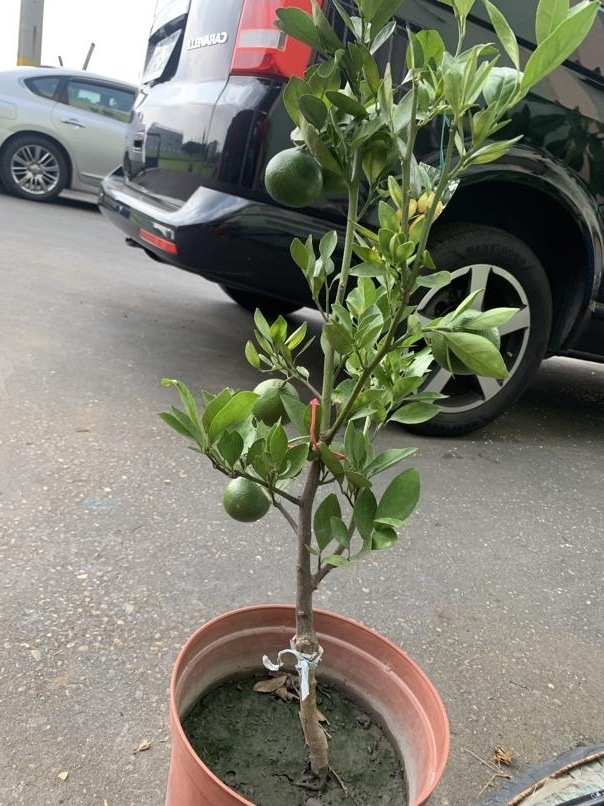Tangerine: (263, 146, 324, 208), (219, 473, 271, 523)
